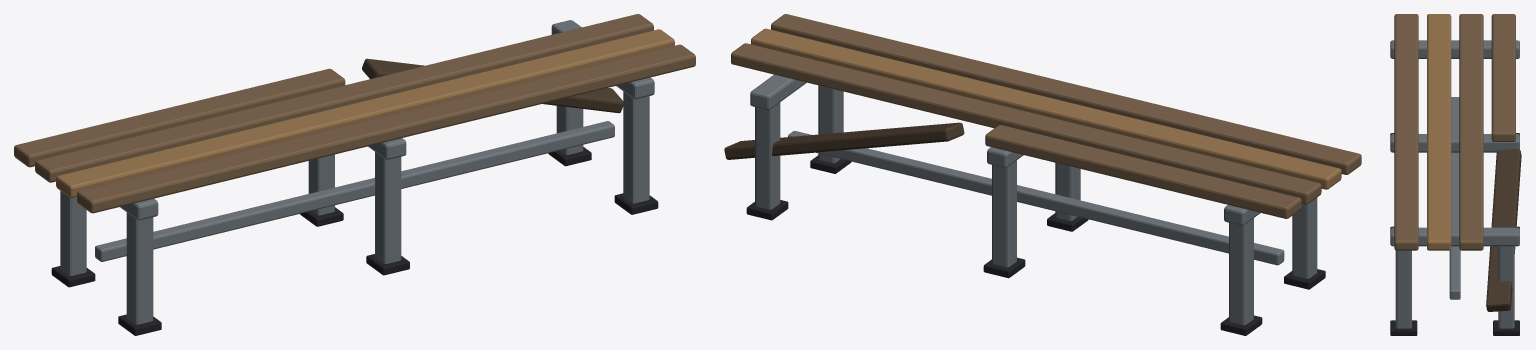
File: lobby_bench.glb
3 renders of one model, left to right at view 1: azimuth 30°, elevation 25°; view 2: azimuth 150°, elevation 25°; view 3: azimuth 270°, elevation 25°, orthographic. The views are drawn at different scales.
Visible parts, largest first — view 1: lobby_bench; view 2: lobby_bench; view 3: lobby_bench.
Boxes of the visible parts, box(x1,y1,x2,y2) form: lobby_bench: box(14, 14, 695, 335); lobby_bench: box(724, 14, 1361, 335); lobby_bench: box(1390, 14, 1521, 335).
Size of what is drawn, in the model's own units: 2 by 0.45 by 0.4857.
Materials: 1 (1 with a texture image).
